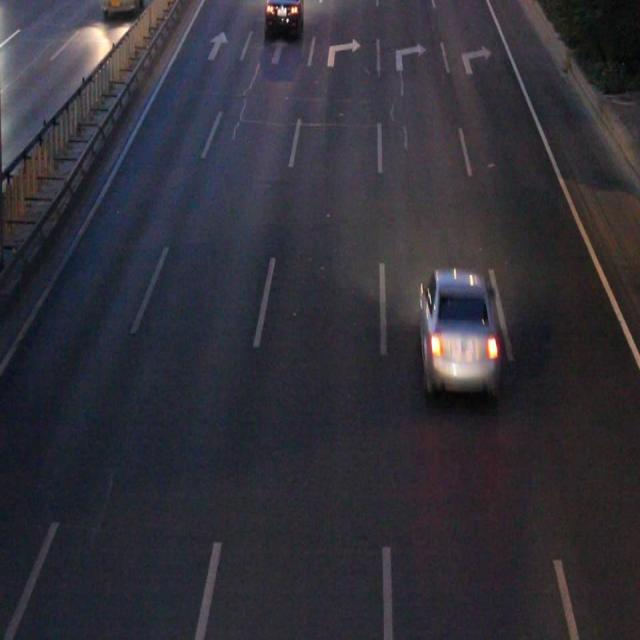car: (420, 271, 495, 390), (265, 2, 302, 34)
